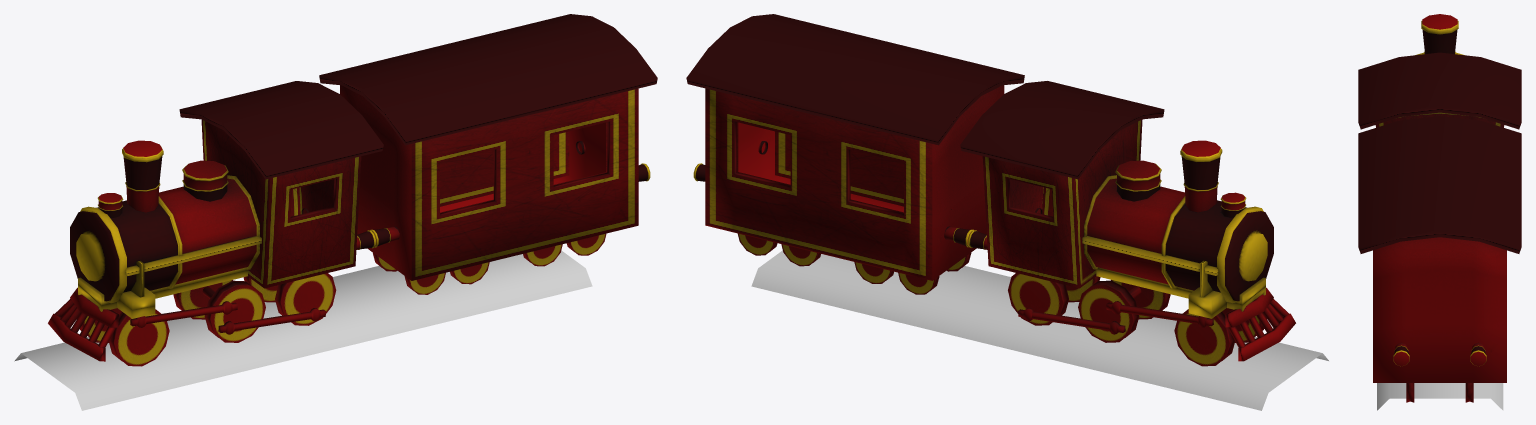
The model's file is Train.fbx.
3 views of the same model, side by side, from view 1: azimuth 30°, elevation 25°; view 2: azimuth 150°, elevation 25°; view 3: azimuth 270°, elevation 25° (orthographic). The views are drawn at different scales.
Visible parts, largest first — view 1: polySurface78, polySurface77, Track, polySurface29, polySurface13, polySurface32, polySurface35, polySurface37, polySurface30; view 2: polySurface78, polySurface77, Track, polySurface30, polySurface18, polySurface33, polySurface40, polySurface39, polySurface29; view 3: polySurface78, polySurface77, Track, polySurface23, polySurface27.
Part boxes in pixels (x1,y1,x2,y2): polySurface78: [319, 14, 657, 280]; polySurface77: [48, 81, 383, 361]; Track: [14, 250, 592, 410]; polySurface29: [204, 280, 265, 342]; polySurface13: [109, 309, 169, 366]; polySurface32: [275, 273, 336, 325]; polySurface35: [218, 308, 325, 334]; polySurface37: [130, 301, 237, 327]; polySurface30: [173, 280, 232, 319]; polySurface78: [686, 14, 1024, 280]; polySurface77: [960, 81, 1295, 361]; Track: [751, 250, 1328, 410]; polySurface30: [1078, 280, 1139, 342]; polySurface18: [1174, 309, 1234, 366]; polySurface33: [1008, 273, 1068, 325]; polySurface40: [1018, 308, 1125, 334]; polySurface39: [1106, 301, 1213, 327]; polySurface29: [1111, 280, 1170, 319]; polySurface78: [1358, 116, 1521, 382]; polySurface77: [1358, 14, 1521, 129]; Track: [1377, 383, 1503, 410]; polySurface23: [1406, 383, 1414, 402]; polySurface27: [1465, 383, 1473, 402].
Bounding box in the file's own units: 14.15 × 5.17 × 3.71.
